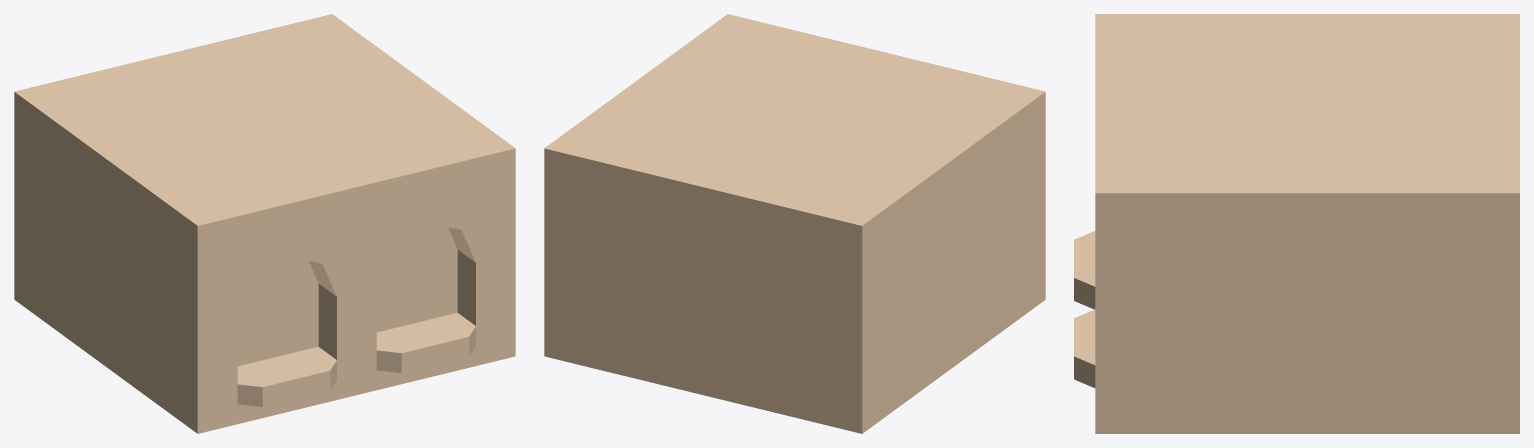
The model's file is building-windows-sills-round.obj.
3 renders of one model, left to right at view 1: azimuth 30°, elevation 25°; view 2: azimuth 150°, elevation 25°; view 3: azimuth 270°, elevation 25°, orthographic. The views are drawn at different scales.
Size of the model in its own units: 1 by 0.625 by 1.05.
